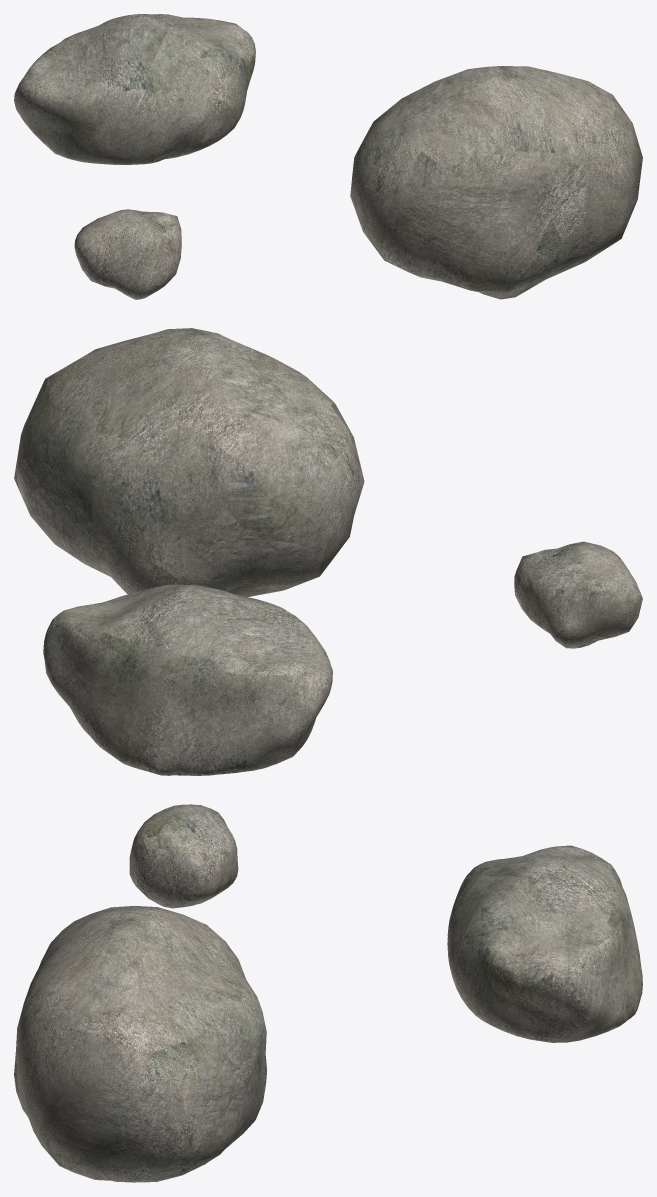
Rendered from rocks.fbx.
3 views of the same model, one above another, from view 1: azimuth 30°, elevation 25°; view 2: azimuth 150°, elevation 25°; view 3: azimuth 270°, elevation 25° (orthographic). The views are drawn at different scales.
Visible parts, largest first — view 1: Icosphere; view 2: Icosphere; view 3: Icosphere.
Part boxes in pixels (left/top/right/bottom): Icosphere: left=14, top=14, right=642, bottom=299; Icosphere: left=14, top=328, right=642, bottom=775; Icosphere: left=14, top=804, right=642, bottom=1182.
Bounding box in the file's own units: 17.87 × 7.4 × 15.98.
Materials: 1 (1 with a texture image).
